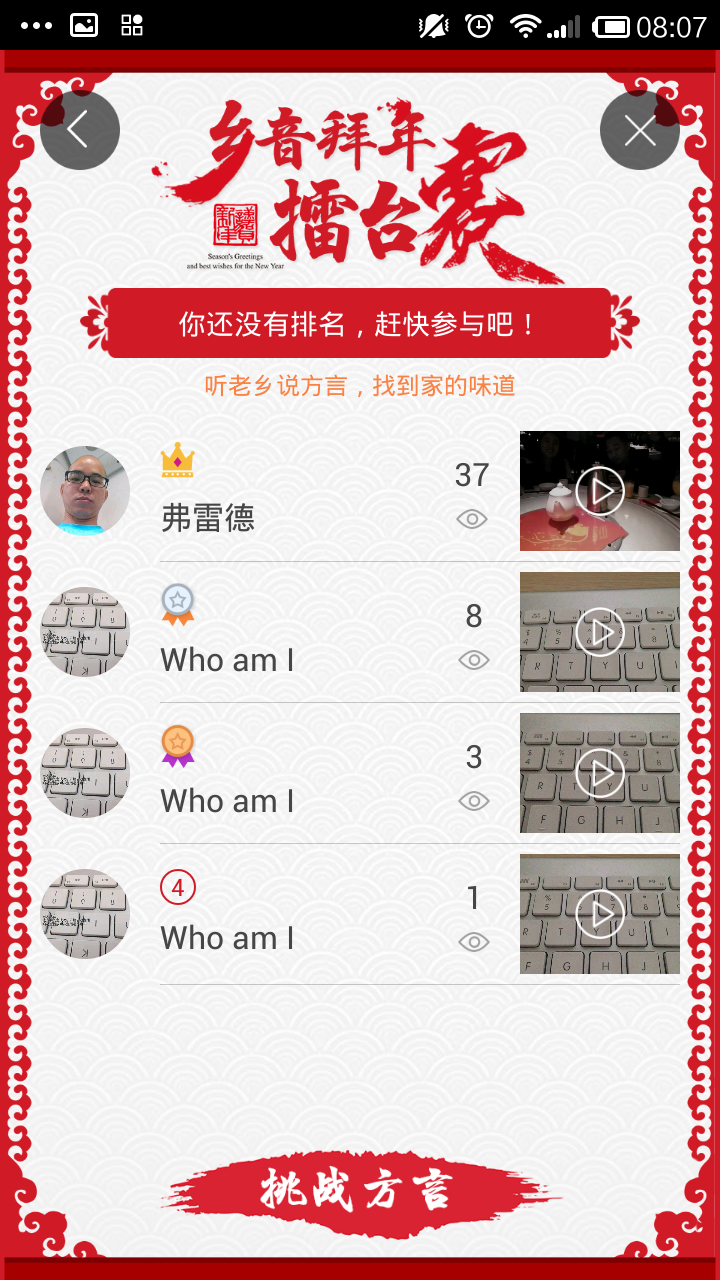button: (174, 1140, 554, 1245)
imgbutton: (33, 87, 125, 177), (595, 84, 683, 175), (567, 880, 640, 953)
imgview: (32, 864, 132, 965)
textview: (148, 910, 317, 964)
